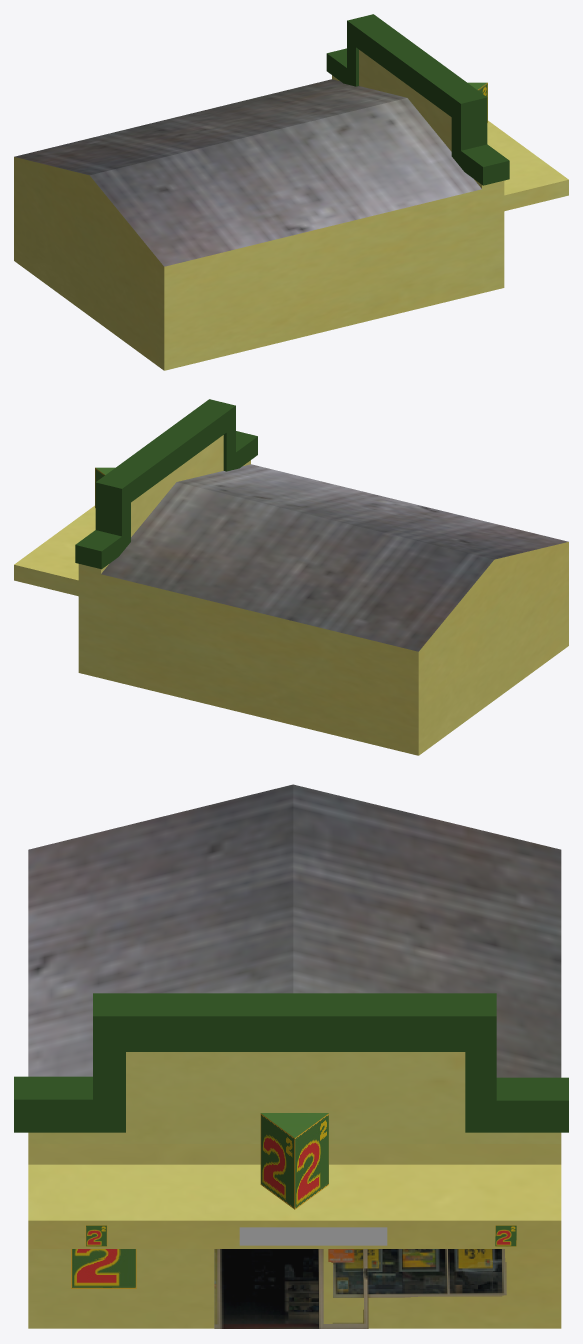
File: 2Square.fbx
3 renders of one model, top to bottom at view 1: azimuth 30°, elevation 25°; view 2: azimuth 150°, elevation 25°; view 3: azimuth 270°, elevation 25°, orthographic. The views are drawn at different scales.
Parts seen in each view (by area): view 1: Building, Roof; view 2: Building, Roof; view 3: Building, Roof, Door, Logo4, Banner, Logo3.
Part boxes in pixels (x1,y1,x2,y2): Building: (14, 50, 568, 370); Roof: (326, 14, 509, 185); Building: (14, 435, 568, 755); Roof: (75, 399, 257, 569); Building: (28, 784, 561, 1328); Roof: (14, 993, 568, 1132); Door: (214, 1249, 506, 1328); Logo4: (260, 1113, 328, 1209); Banner: (239, 1227, 387, 1245); Logo3: (71, 1249, 136, 1288).
Bounding box in the file's own units: 21.06 × 8.76 × 14.04.
